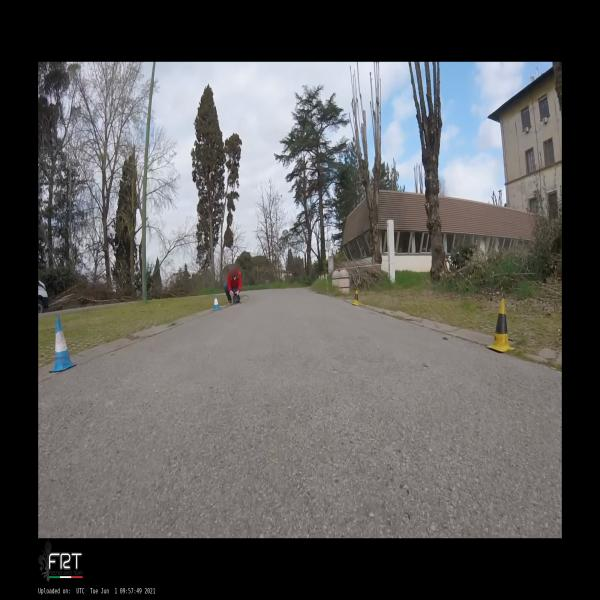blue_cone: (48, 317, 77, 372), (213, 295, 220, 310)
yellow_cone: (486, 298, 516, 352), (352, 290, 359, 306)
